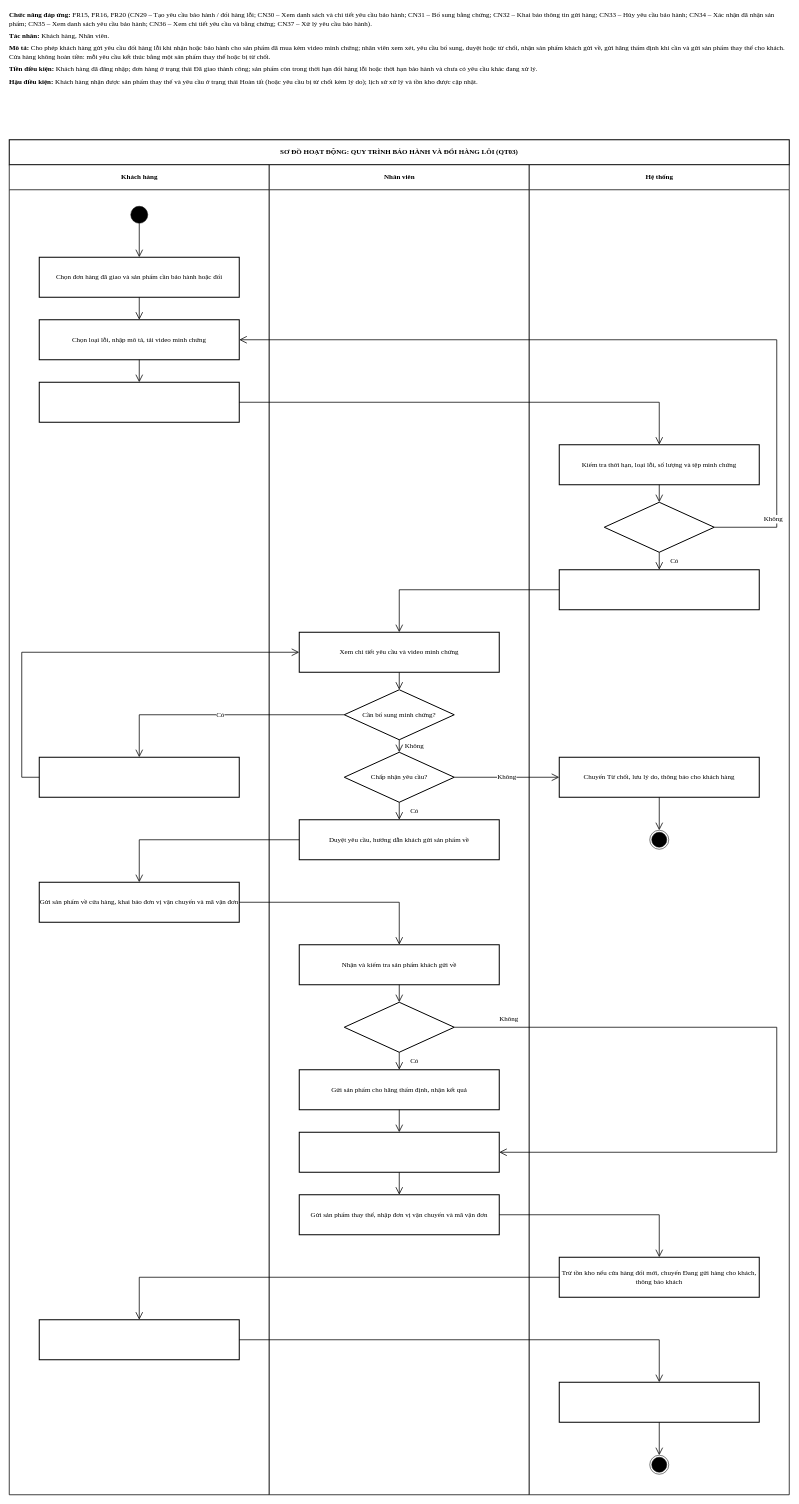
Some shapes in this 799 by 1504 pixel diagram are drawn without their labels. The shapes that lost their labels are listed below. From the top down, each one's centre as x and y in pixels, then its label:
point (139, 402): Chọn "Gửi yêu cầu"
point (659, 527): Yêu cầu hợp lệ?
point (659, 589): Tạo yêu cầu ở trạng thái Chờ duyệt, thông báo cho nhân viên
point (139, 777): Nhận thông báo, tải thêm video hoặc ảnh minh chứng
point (399, 1027): Cần gửi hãng thẩm định?
point (399, 1152): Chọn cách giải quyết: cửa hàng đổi mới hoặc hãng thay thế
point (139, 1339): Nhận sản phẩm, chọn "Đã nhận được hàng"
point (659, 1402): Chuyển Hoàn tất, thông báo cho nhân viên
